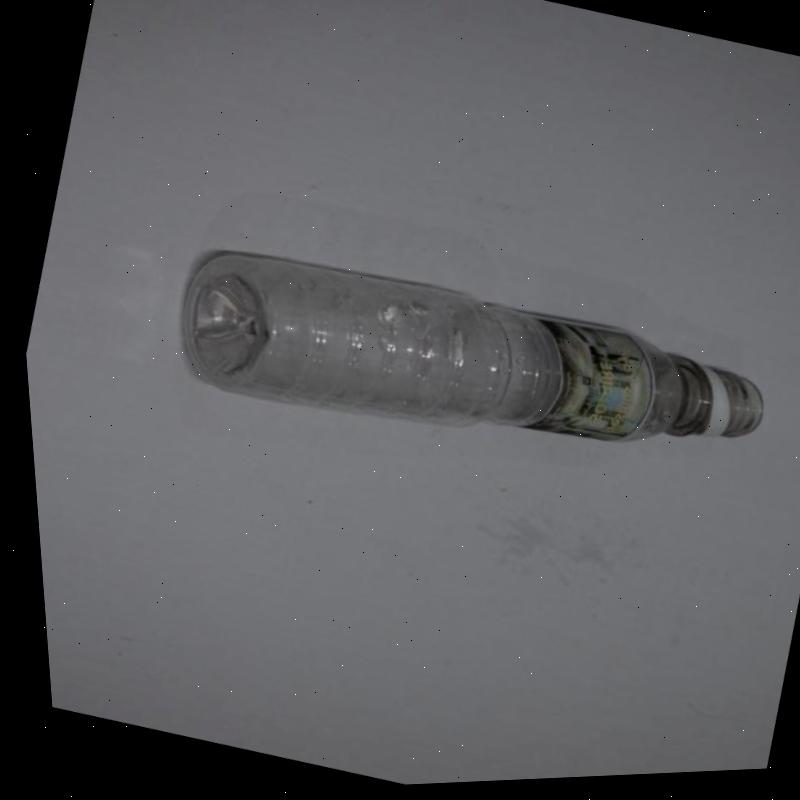botella: (152, 217, 776, 537)
